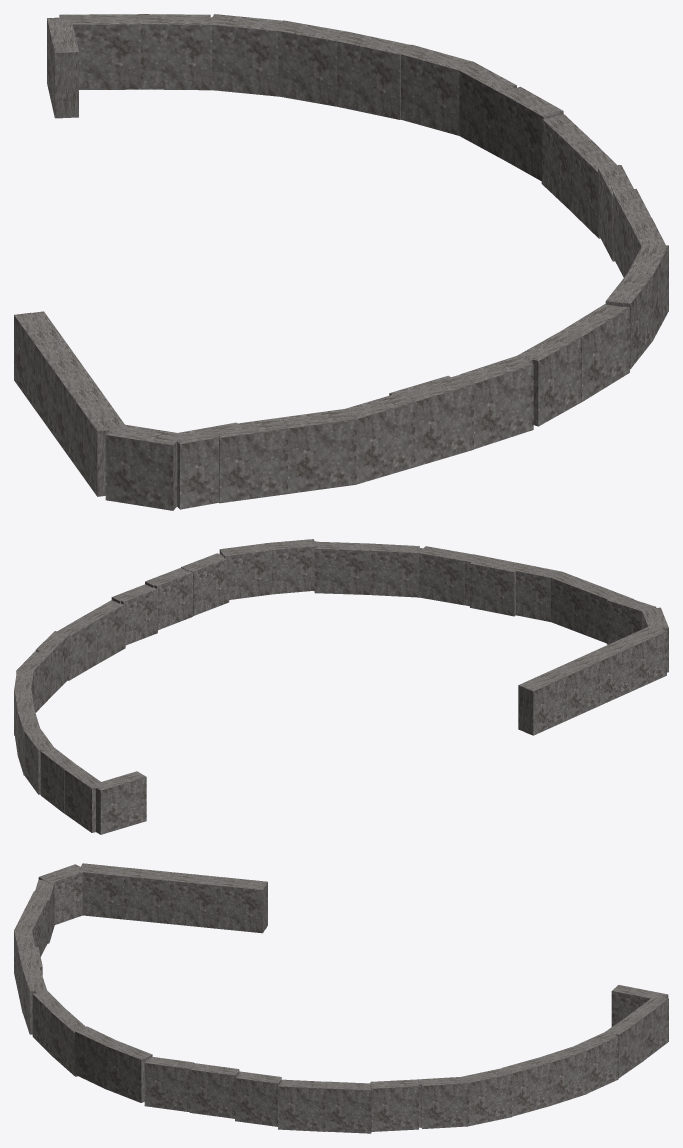
File: 壁内中.fbx
3 renders of one model, top to bottom at view 1: azimuth 30°, elevation 25°; view 2: azimuth 150°, elevation 25°; view 3: azimuth 270°, elevation 25°, orthographic. The views are drawn at different scales.
Parts seen in each view (by area): view 1: 床□_1_3, 床□_1_4, 床□_1_2, 床□_1_6, 床□_1_5, 床□_1_7, 床□_1_9, 床□_1_8, 床□_1_11, 床□_1_10, 床□_1_13, 床□_1 (+20 smaller); view 2: 床□_1_17, 床□_1_18, 床□_1_19, 床□_1_15, 床□_1_16, 床□_2, 床□_3, 床□_1_13, 床□_1_14, 床□_1_12, 床□_1_10, 床□_1_11 (+10 smaller); view 3: 床□_10, 床□_9, 床□_8, 床□_7, 床□_6, 床□_1, 床□_1_fracturepart20_2, 床□_1_fracturepart227, 床□_1_fracturepart215_2, 床□_1_fracturepart57_2, 床□_1_fracturepart48, 床□_1_fracturepart193 (+11 smaller).
Part boxes in pixels (x1,y1,x2,y2): 床□_1_3: (140,16,212,90); 床□_1_4: (209,17,280,96); 床□_1_2: (61,16,140,89); 床□_1_6: (337,34,406,119); 床□_1_5: (274,23,343,106); 床□_1_7: (400,47,467,135); 床□_1_9: (500,88,557,181); 床□_1_8: (457,67,514,157); 床□_1_11: (570,143,610,238); 床□_1_10: (541,116,586,210); 床□_1_13: (613,190,644,277); 床□_1: (53,17,78,117); 床□_1_17: (314,544,372,594); 床□_1_18: (371,545,421,597); 床□_1_19: (417,548,466,605); 床□_1_15: (223,545,271,600); 床□_1_16: (268,541,317,594); 床□_2: (509,565,556,621); 床□_3: (551,573,593,635); 床□_1_13: (149,569,192,630); 床□_1_14: (189,554,229,615); 床□_1_12: (121,586,157,645); 床□_1_10: (62,617,96,680); 床□_1_11: (88,602,125,664); 床□_10: (216,881,265,933); 床□_9: (170,876,218,928); 床□_8: (124,872,172,923); 床□_7: (78,868,125,919); 床□_6: (45,867,87,924); 床□_1: (611,986,664,1026); 床□_1_fracturepart20_2: (561,1059,587,1102); 床□_1_fracturepart227: (385,1081,412,1115); 床□_1_fracturepart215_2: (519,1058,551,1091); 床□_1_fracturepart57_2: (285,1081,325,1107); 床□_1_fracturepart48: (325,1083,357,1107); 床□_1_fracturepart193: (421,1079,444,1106).
Bounding box in the file's own units: 219 × 23.89 × 275.
1 material, 1 textured.
